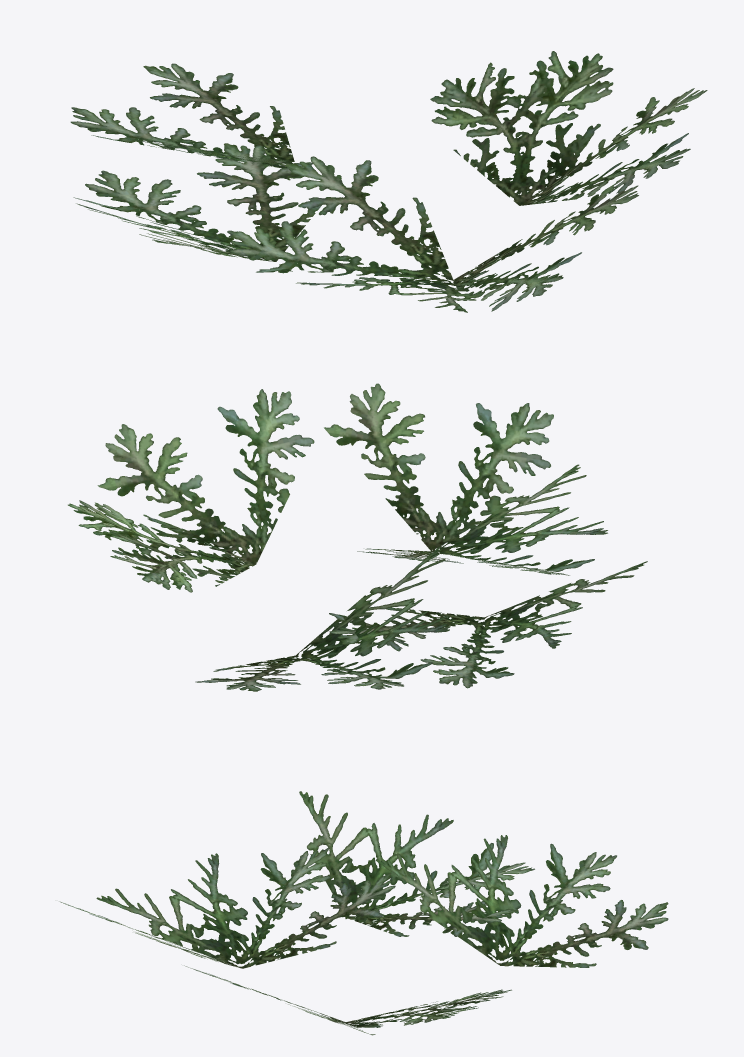
Rendered from ptch_groundleafs_sm_l1.fbx.
The picture shows the model from 3 angles, top to bottom: view 1: azimuth 30°, elevation 25°; view 2: azimuth 150°, elevation 25°; view 3: azimuth 270°, elevation 25°; orthographic projection. The views are drawn at different scales.
Visible parts, largest first — view 1: mesh_node; view 2: mesh_node; view 3: mesh_node.
Part boxes in pixels (x1=…): mesh_node: x1=70, y1=51, x2=707, y2=312; mesh_node: x1=68, y1=383, x2=647, y2=691; mesh_node: x1=59, y1=791, x2=668, y2=1035.
Bounding box in the file's own units: 1.03 × 0.1818 × 1.1.
